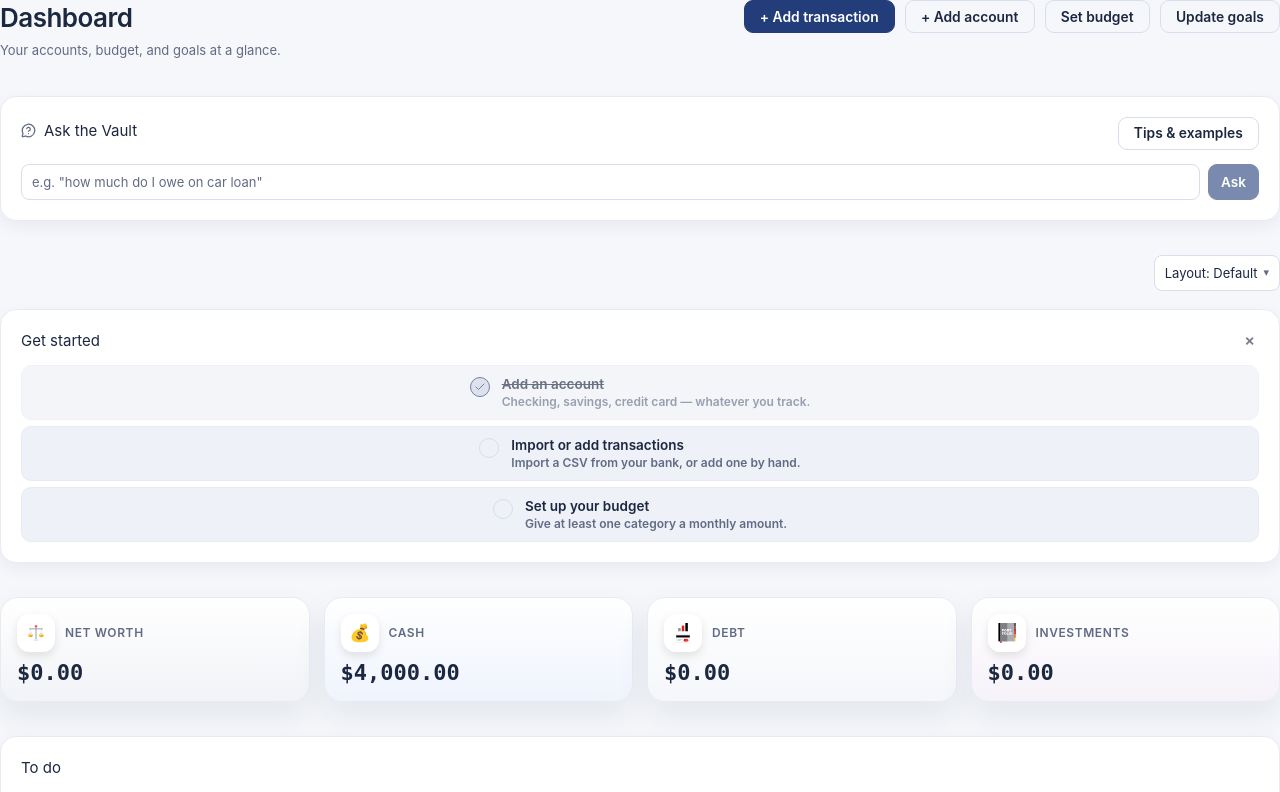
it: Layout menu › Customize… turns on customizing without changing the layout, and Done customizing turns it off
The width and height of the screenshot is (1280, 792).
Click the button with class "layout-select-toggle".
click(1217, 273)  # box [1154,255,1279,291]
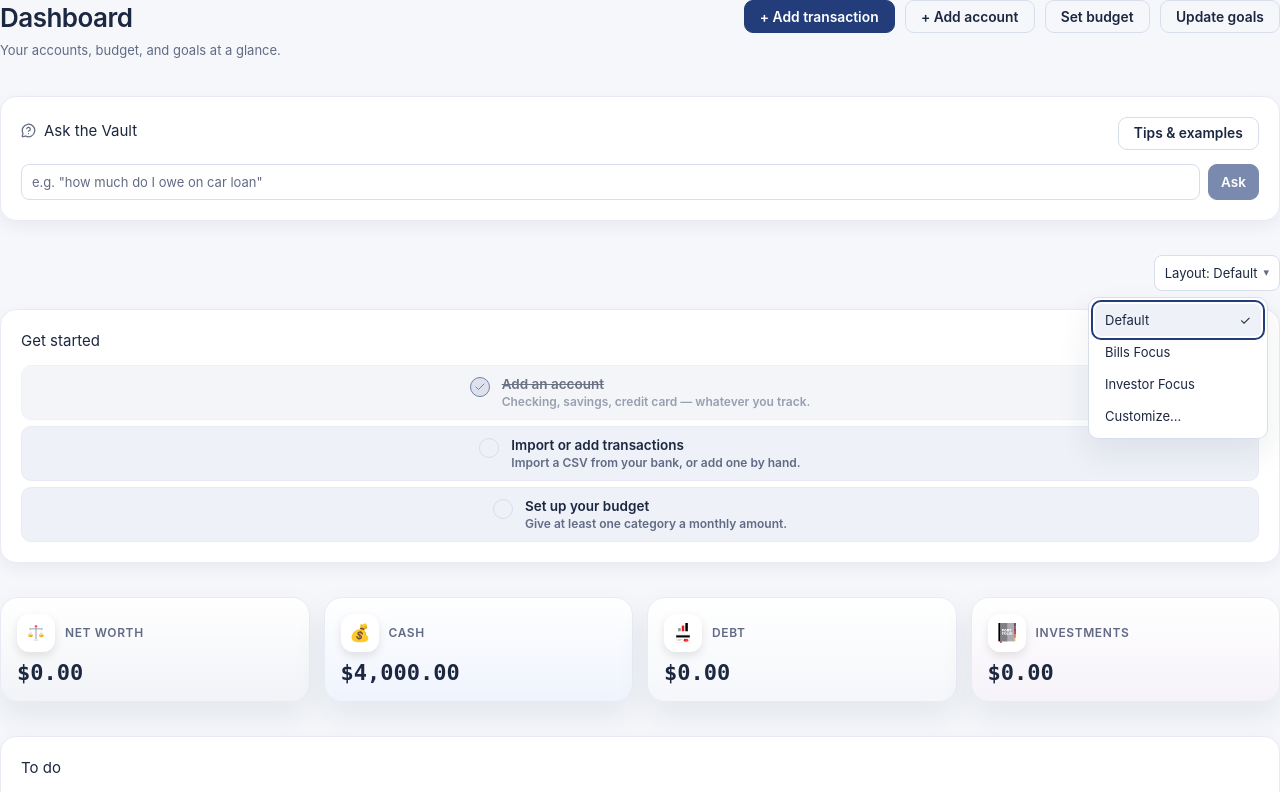
Click the menu item "Customize…".
click(1178, 416)  # box [1095,400,1261,432]
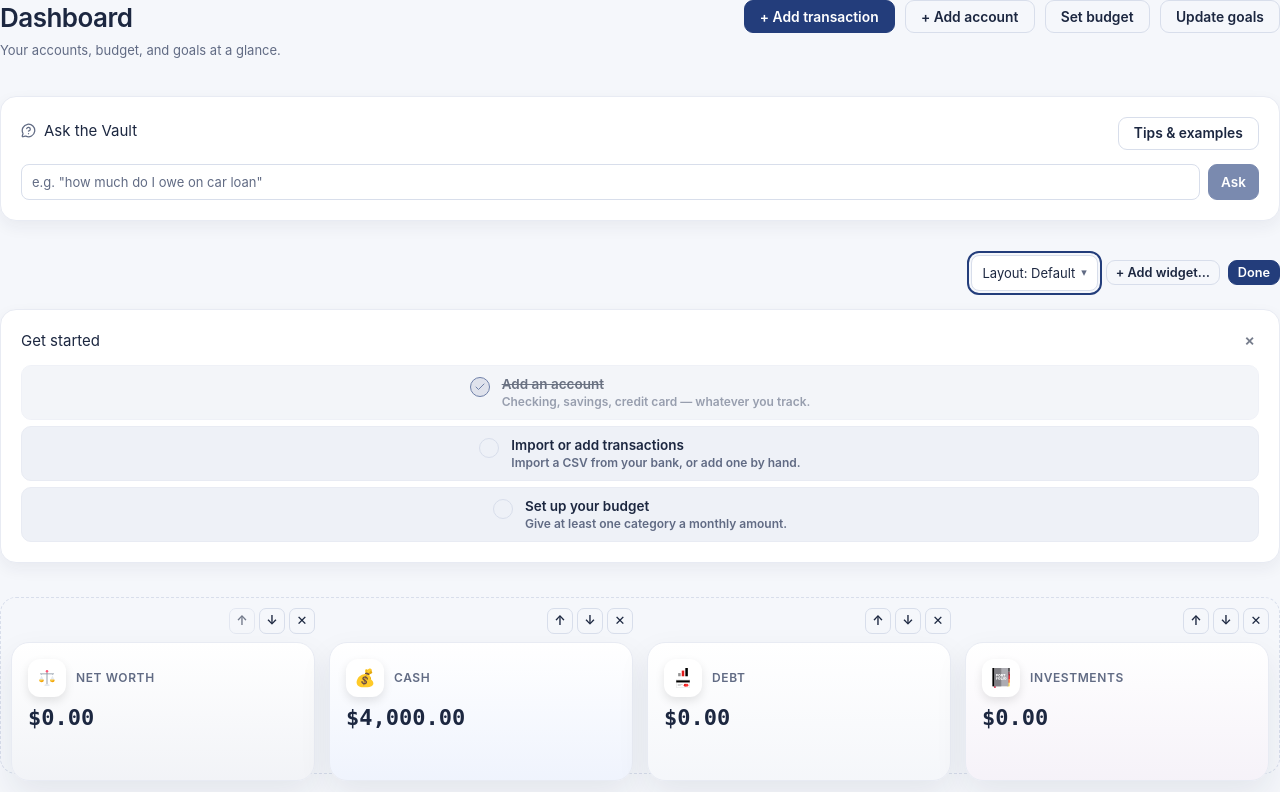
expect the 1st element with class "dashboard-widget-controls" is shown: met, box [229,608,315,634]
expect the element with class "dashboard-toolbar" shows "+ Add widget…": met, box [1106,260,1220,285]
Click the button with class "layout-select-toggle".
click(1035, 273)  # box [972,255,1098,291]
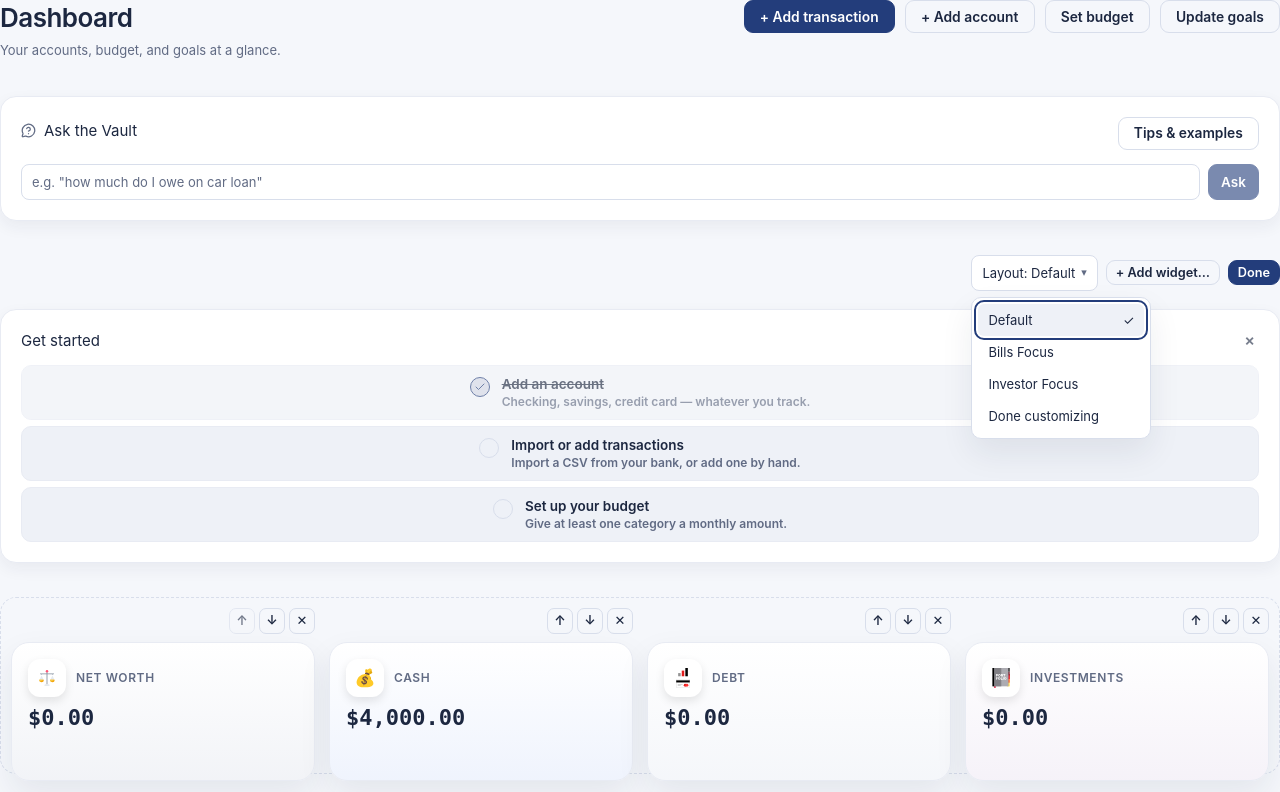
Click the menu item "Done customizing".
click(1062, 416)  # box [978,400,1144,432]
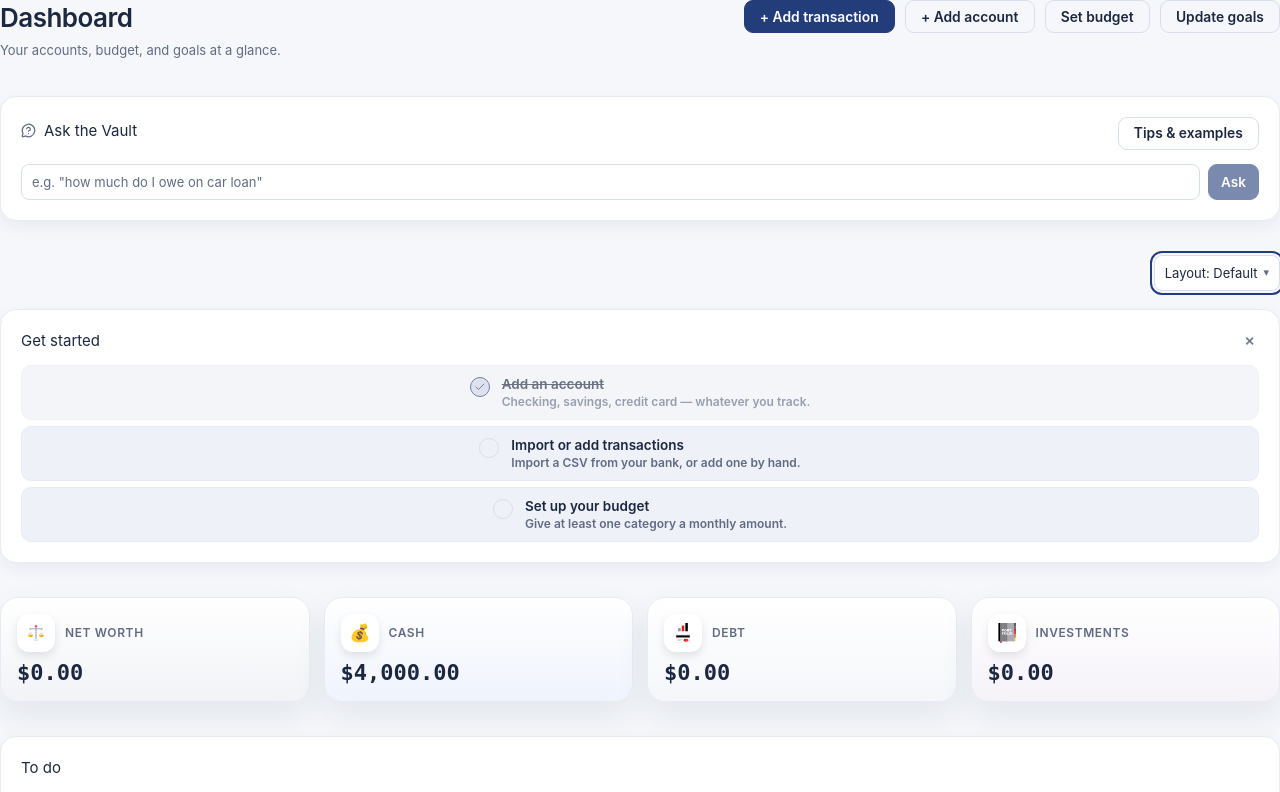
expect no elements with class "dashboard-widget-controls" are shown: met
